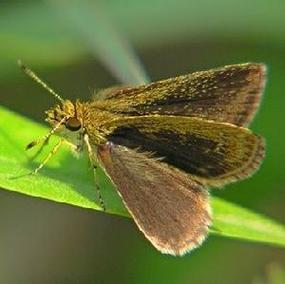Hesperiidae: (9, 58, 274, 259)
